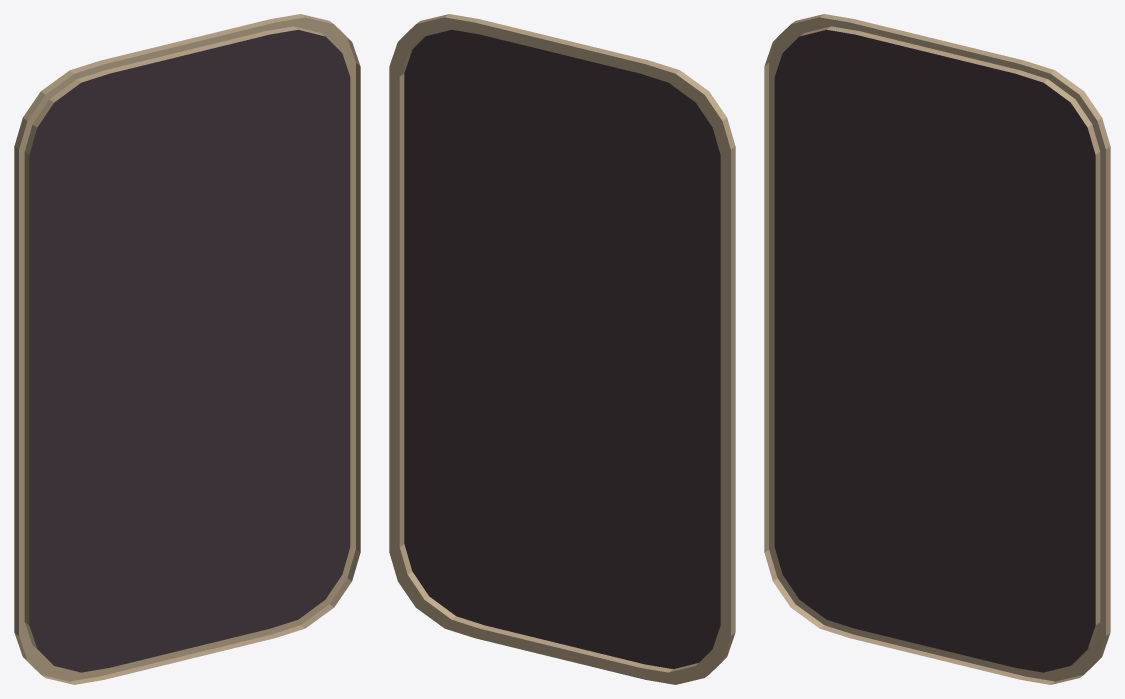
File: WeiQiang1_Mo.fbx
The picture shows the model from 3 angles, left to right: view 1: azimuth 30°, elevation 25°; view 2: azimuth 150°, elevation 25°; view 3: azimuth 330°, elevation 25°; orthographic projection.
Parts seen in each view (by area): view 1: 对象003; view 2: 对象003; view 3: 对象003.
Boxes of the visible parts, left/top/right/bottom form: 对象003: left=14, top=14, right=360, bottom=684; 对象003: left=389, top=14, right=735, bottom=684; 对象003: left=764, top=14, right=1110, bottom=684.
Bounding box in the file's own units: 1894 × 3263 × 45.57.
1 material, 1 textured.
